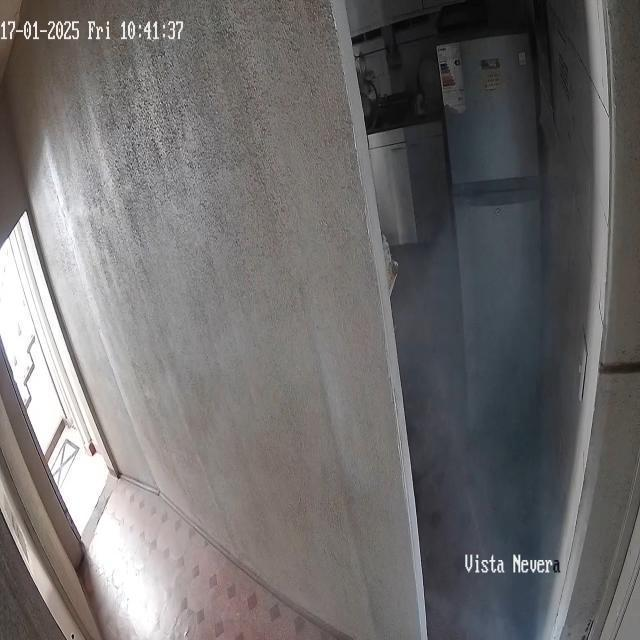fire: (384, 184, 574, 639)
